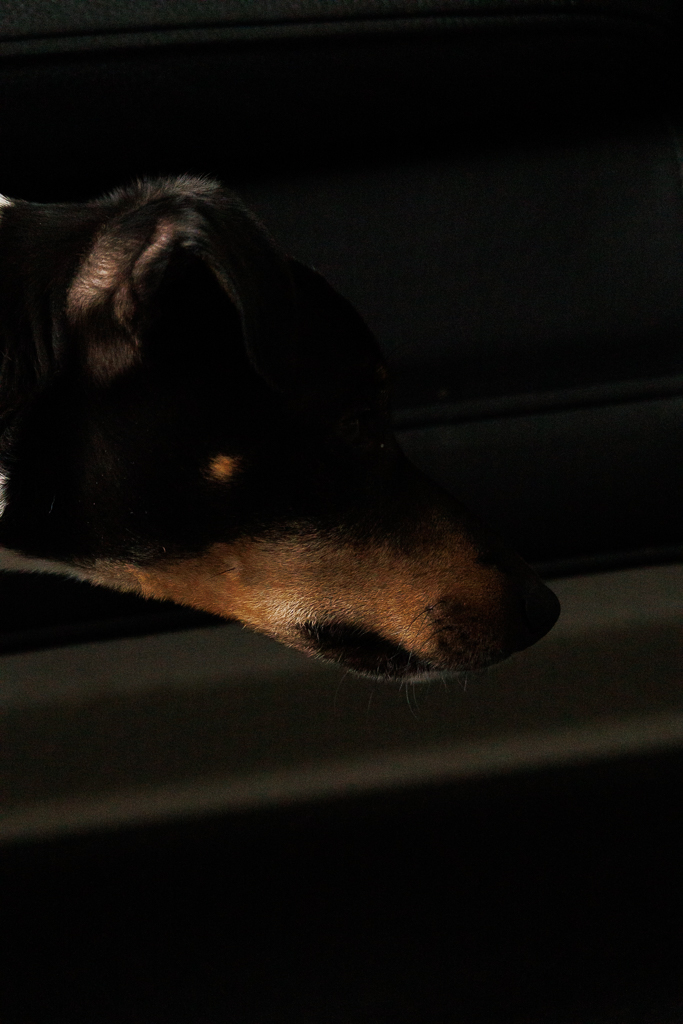Dog: (0, 121, 585, 718)
